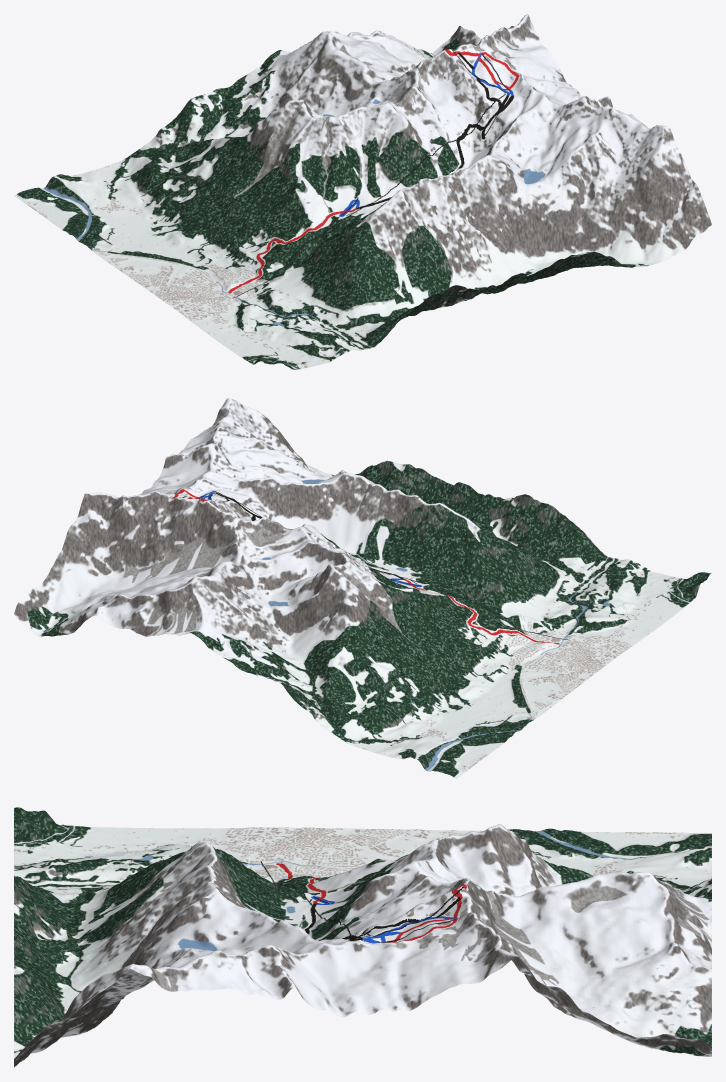
The picture shows the model from 3 angles, top to bottom: view 1: azimuth 30°, elevation 25°; view 2: azimuth 150°, elevation 25°; view 3: azimuth 270°, elevation 25°; orthographic projection. The views are drawn at different scales.
Parts seen in each view (by area): view 1: A1_Nebelhorn.glb; view 2: A1_Nebelhorn.glb; view 3: A1_Nebelhorn.glb.
Boxes of the visible parts, x1=… form: A1_Nebelhorn.glb: x1=14, y1=14, x2=711, y2=369; A1_Nebelhorn.glb: x1=14, y1=398, x2=711, y2=778; A1_Nebelhorn.glb: x1=14, y1=807, x2=711, y2=1067.
Size of the model in its own units: 6489 by 1816 by 6489.
Materials: 1 (1 with a texture image).
